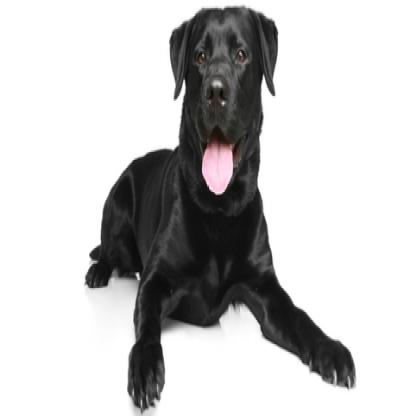dog: (101, 9, 361, 404)
